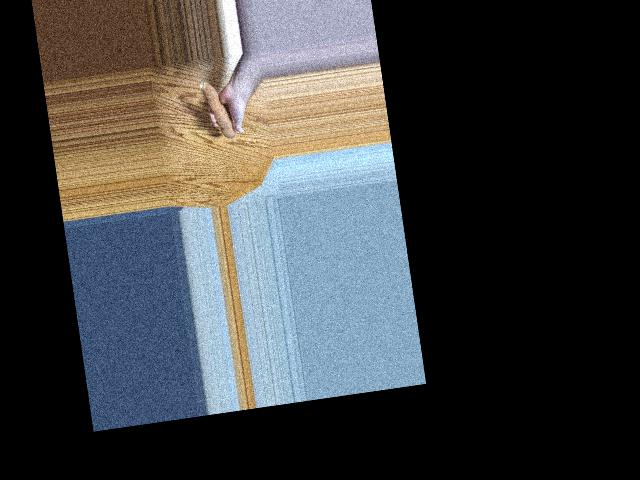sweet_potato: (199, 76, 236, 141)
